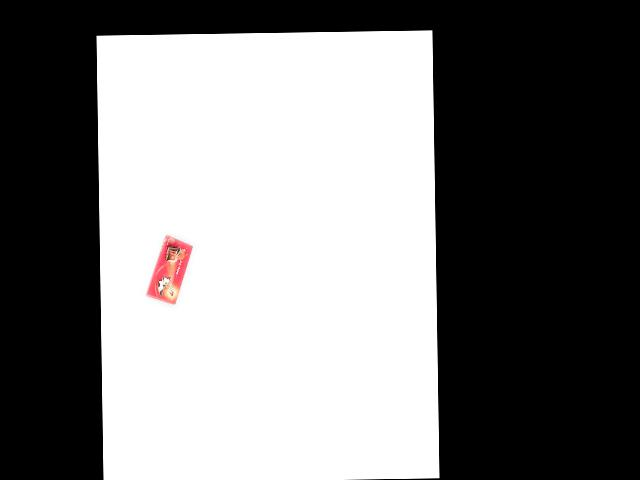chocolate: (145, 233, 194, 303)
